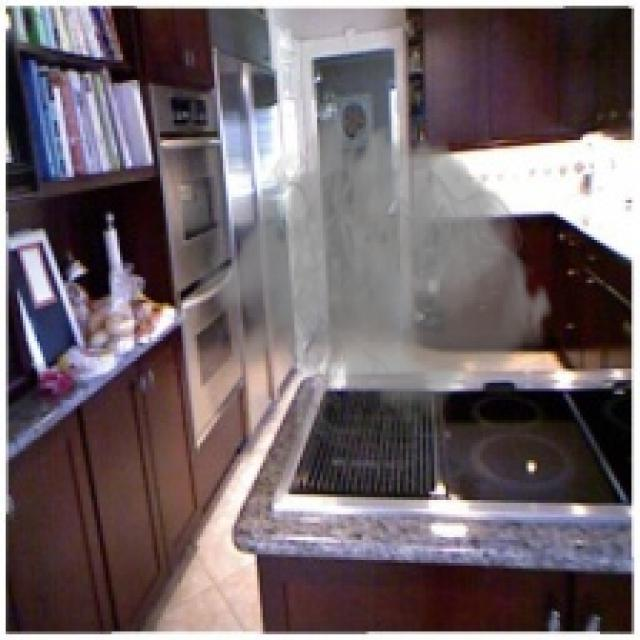Smoke: (195, 91, 554, 452)
